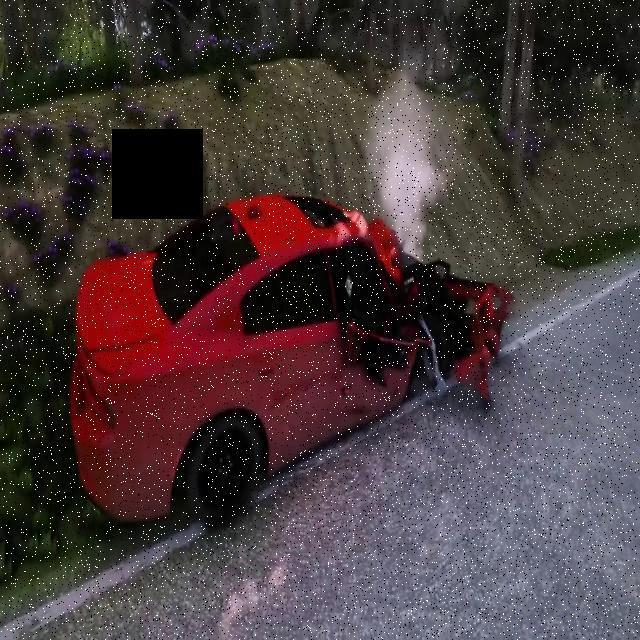vehicle: (50, 122, 543, 572)
